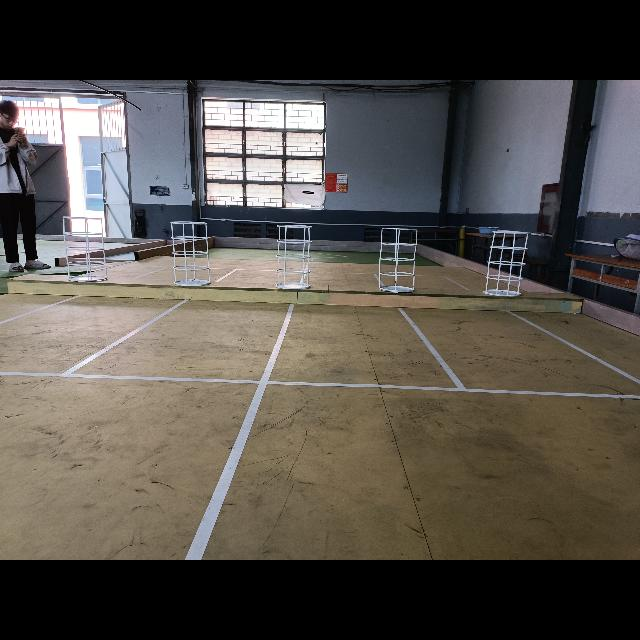S: (481, 229, 534, 300), (59, 214, 109, 284), (377, 225, 420, 295), (169, 220, 211, 287), (275, 223, 315, 291)
